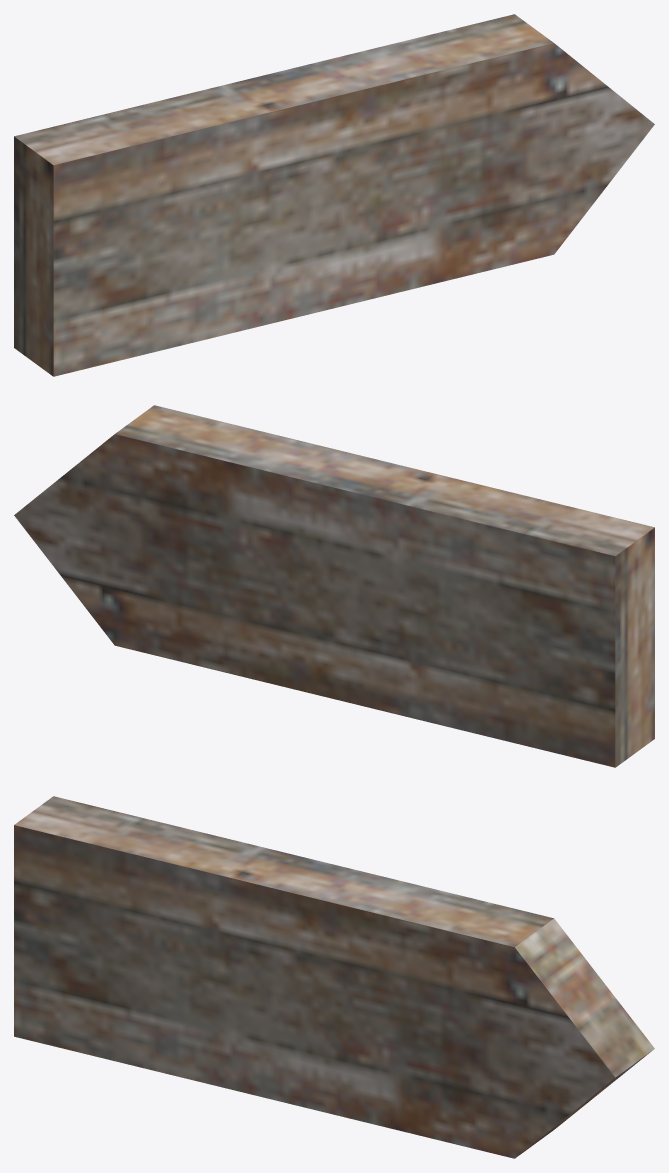
The model's file is Sign1.fbx.
3 views of the same model, one above another, from view 1: azimuth 30°, elevation 25°; view 2: azimuth 150°, elevation 25°; view 3: azimuth 330°, elevation 25° (orthographic).
Visible parts, largest first — view 1: Sign1; view 2: Sign1; view 3: Sign1.
Part boxes in pixels (bbox=[...]): Sign1: bbox=[14, 14, 654, 376]; Sign1: bbox=[14, 405, 654, 767]; Sign1: bbox=[14, 796, 654, 1158].
Bounding box in the file's own units: 118 × 39.68 × 13.43.
Materials: 1 (1 with a texture image).
